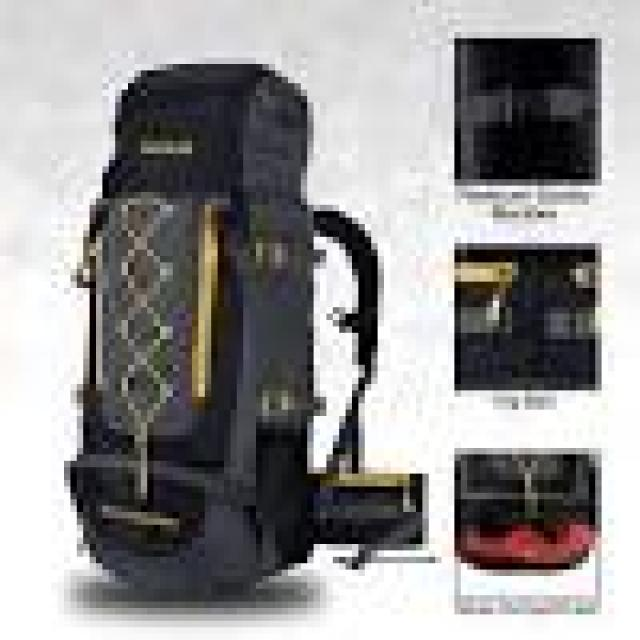backpack: (65, 59, 430, 596)
